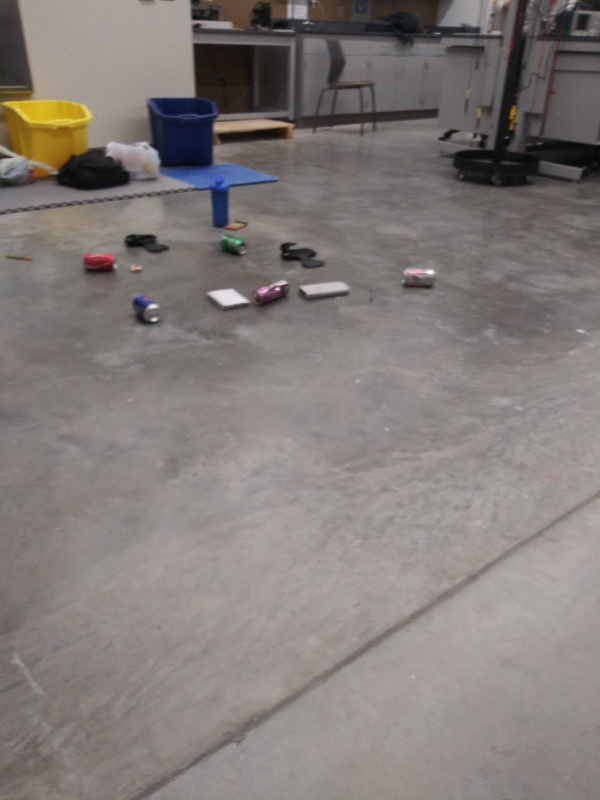can: (250, 276, 293, 306), (131, 292, 163, 326), (396, 265, 439, 289), (81, 251, 121, 272), (219, 231, 249, 257)
